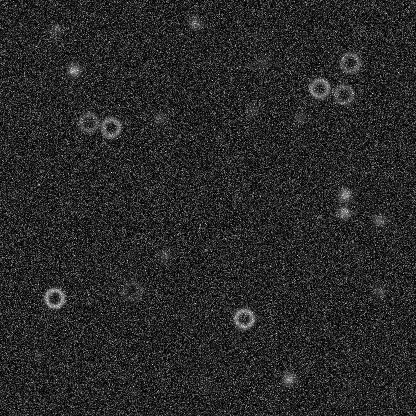Ring: (42, 286, 66, 310), (76, 110, 100, 134), (98, 115, 122, 139), (331, 82, 355, 106), (338, 50, 362, 74), (119, 278, 143, 302), (232, 306, 256, 330), (307, 76, 331, 100)
Spot: (29, 346, 45, 362), (336, 186, 352, 202), (340, 376, 356, 392), (196, 376, 212, 392), (335, 204, 351, 220), (47, 21, 63, 37), (371, 283, 387, 299), (253, 52, 269, 68), (280, 371, 296, 387), (152, 110, 168, 126), (244, 101, 260, 117), (370, 212, 386, 228), (65, 61, 81, 77), (248, 29, 264, 45), (291, 108, 307, 124), (156, 247, 172, 263), (186, 14, 202, 30)
